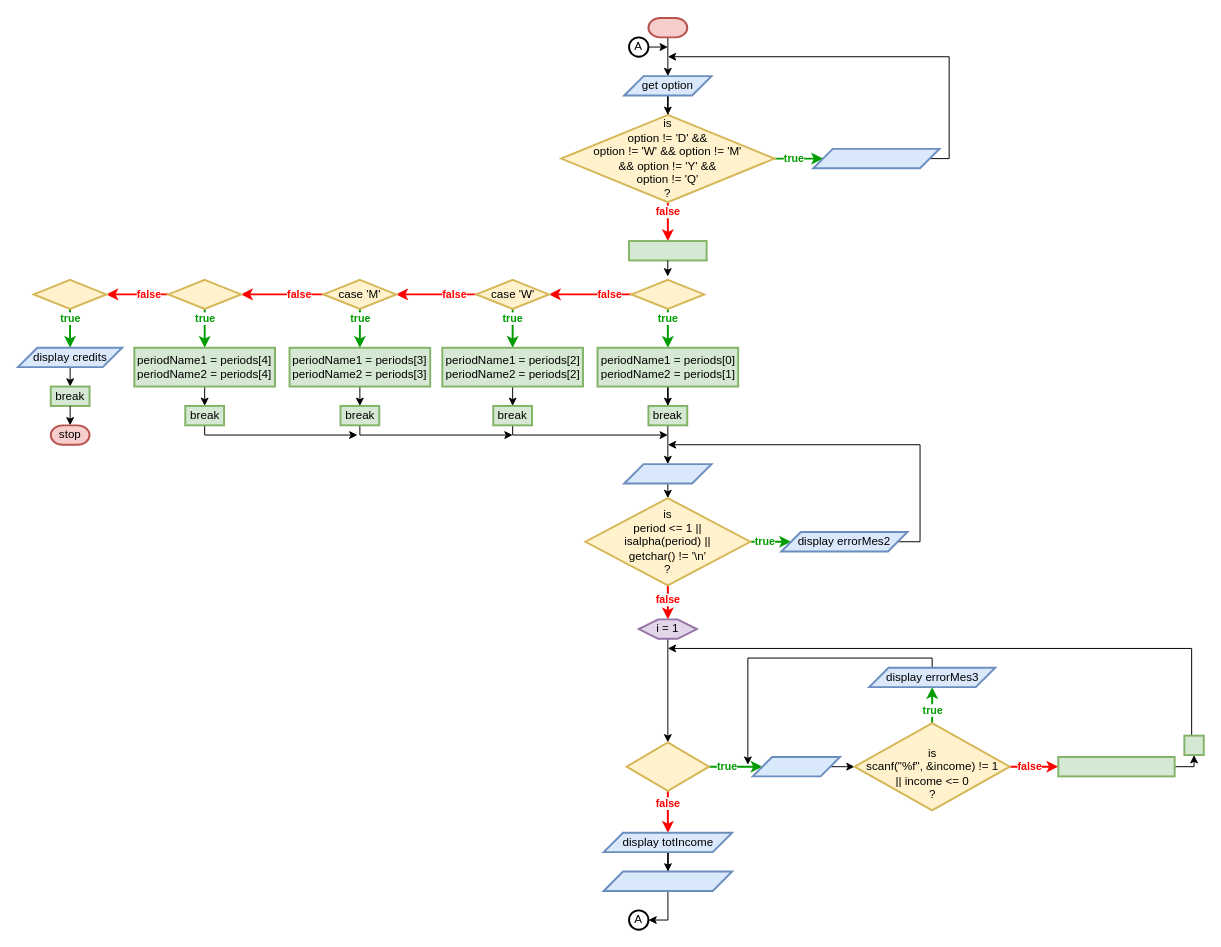
Image size: 1221x947. Some labels were removed from this diagram. Each missing label, with the box of its shape:
case 'D': (630, 278, 705, 309)
case 'Q': (32, 278, 107, 309)
case 'Y': (167, 278, 242, 309)
display avgIncome: (602, 870, 733, 891)
display errorMes1: (812, 147, 940, 169)
get income: (751, 756, 841, 777)
get period: (623, 463, 712, 484)
i++: (1183, 734, 1204, 756)
is i <= period ?: (625, 741, 710, 791)
start: (647, 16, 688, 38)
switch(option): (628, 240, 707, 261)
totIncome += income: (1057, 756, 1175, 777)
